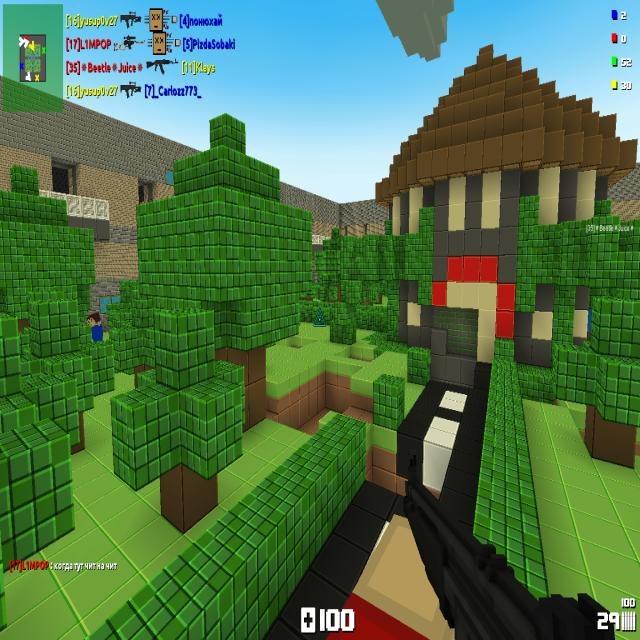enemy: (86, 310, 104, 342)
